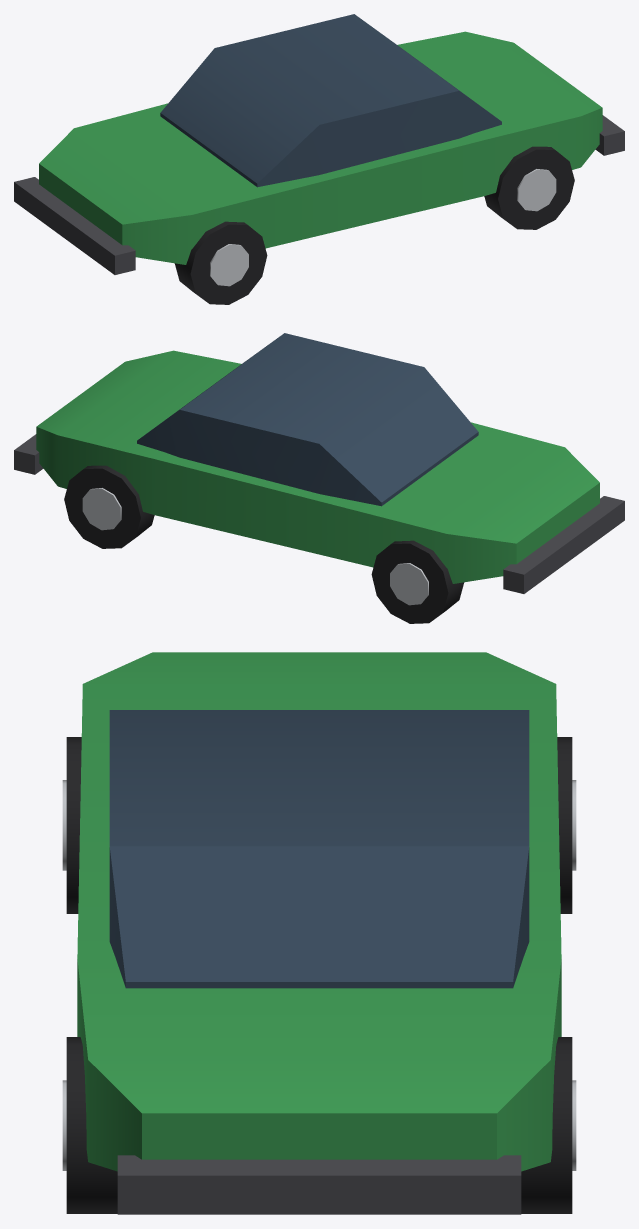
The model's file is car_sedan_green.fbx.
3 renders of one model, top to bottom at view 1: azimuth 30°, elevation 25°; view 2: azimuth 150°, elevation 25°; view 3: azimuth 270°, elevation 25°, orthographic. The views are drawn at different scales.
Parts seen in each view (by area): view 1: Body, Wheel_FR, Wheel_RR; view 2: Body, Wheel_FL, Wheel_RL; view 3: Body, Wheel_RL, Wheel_RR, Wheel_FL, Wheel_FR.
Boxes of the visible parts, left/top/right/bottom form: Body: left=14, top=14, right=624, bottom=274; Wheel_FR: left=174, top=221, right=267, bottom=304; Wheel_RR: left=484, top=146, right=574, bottom=229; Body: left=14, top=333, right=624, bottom=593; Wheel_FL: left=371, top=540, right=464, bottom=623; Wheel_RL: left=64, top=465, right=154, bottom=548; Body: left=77, top=652, right=561, bottom=1214; Wheel_RL: left=521, top=1037, right=576, bottom=1213; Wheel_RR: left=62, top=1037, right=117, bottom=1213; Wheel_FL: left=557, top=737, right=576, bottom=913; Wheel_FR: left=62, top=737, right=81, bottom=913.
Size of the model in its own units: 4.38 by 1.21 by 1.91.
